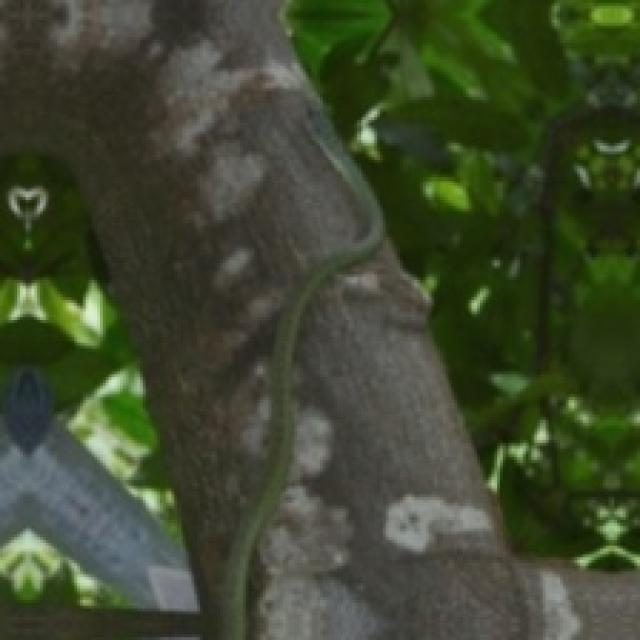paradise tree snake: (202, 145, 385, 640)
